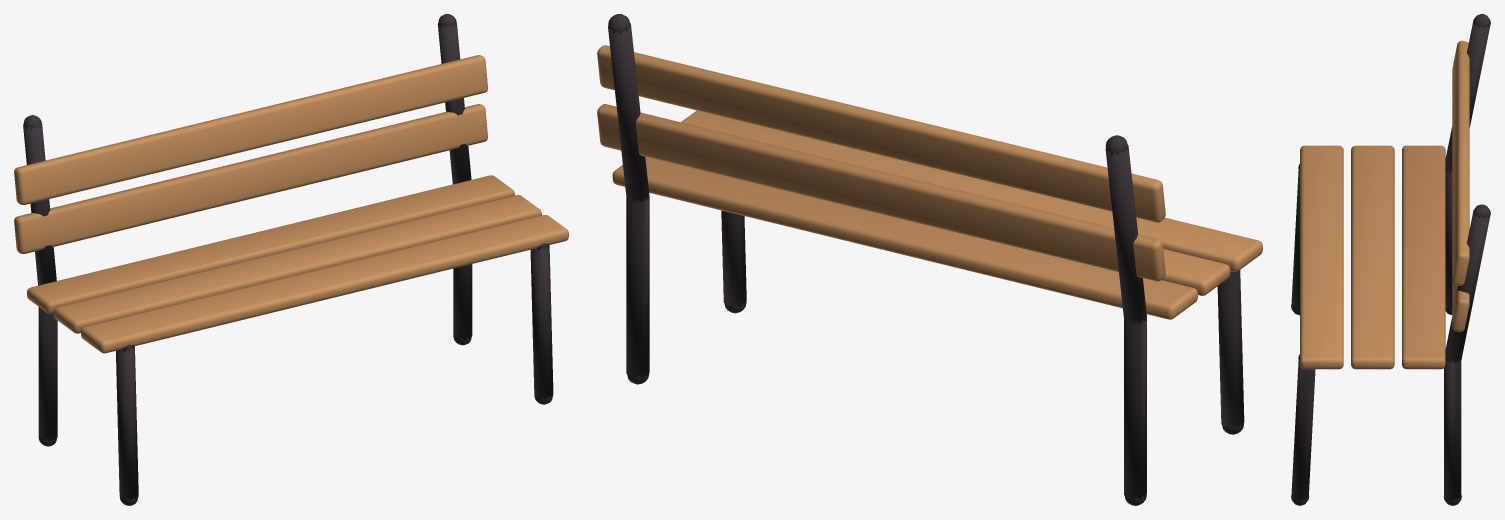
The model's file is bench.glb.
3 renders of one model, left to right at view 1: azimuth 30°, elevation 25°; view 2: azimuth 150°, elevation 25°; view 3: azimuth 270°, elevation 25°, orthographic. The views are drawn at different scales.
Visible parts, largest first — view 1: bench; view 2: bench; view 3: bench.
Part boxes in pixels (<box>): bench: <box>14,14,568,505</box>; bench: <box>597,14,1262,505</box>; bench: <box>1291,14,1490,505</box>.
Size of the model in its own units: 1.4 by 0.91 by 0.55.
